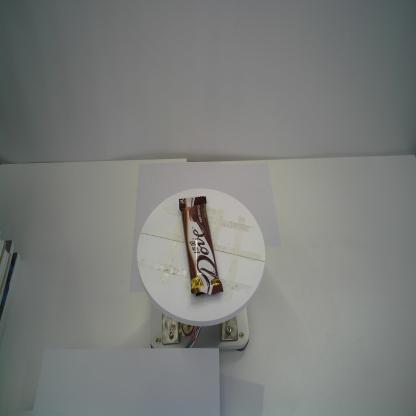Chocolate: (178, 195, 224, 298)
